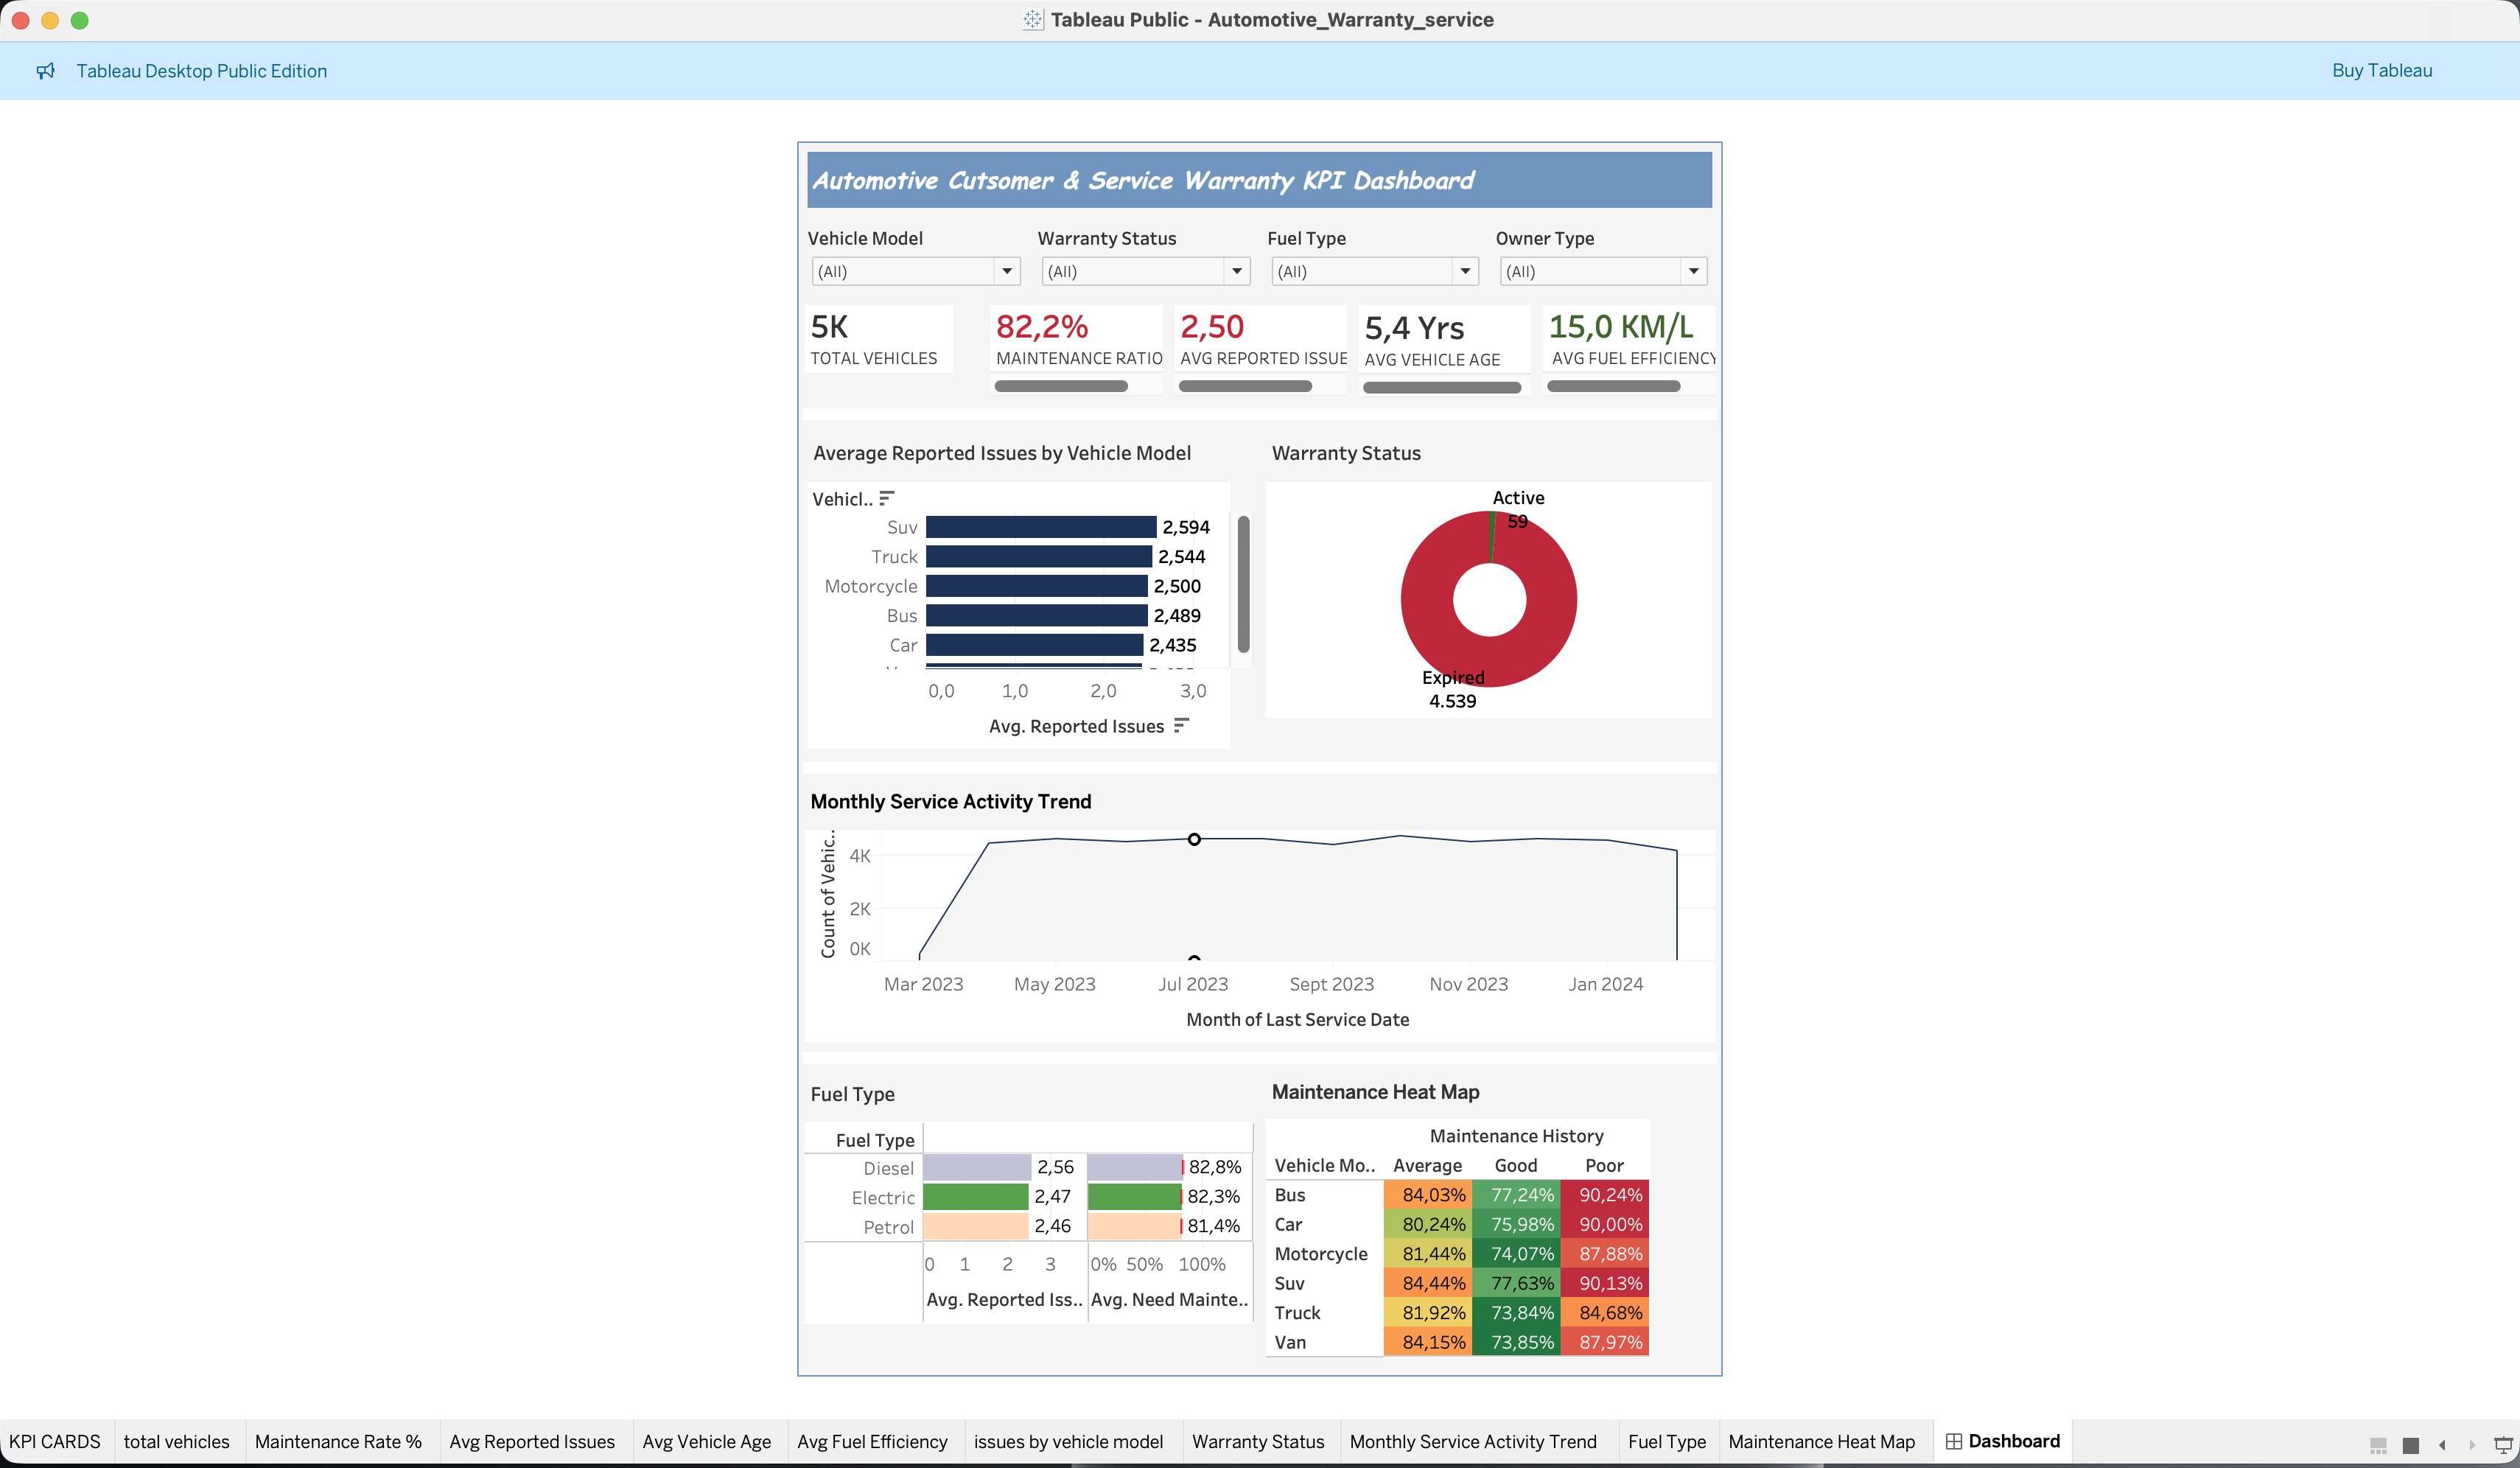

The dashboard page shown, as its layout file describes it:
{"tool":"tableau","page":{"name":"Dashboard 1","canvas":[1000,1000],"units":"permille","ordinal":0},"visuals":[{"type":"text","box":[18.5,14,963.1,58.1]},{"type":"filter","title":"issues by vehicle model","param":"[federated.1a6rch2145ltl31cx5ggi0uesg0q].[none:Vehicle_Model:nk]","box":[21.5,74.4,240,60.5]},{"type":"filter","title":"Warranty Status","param":"[federated.1a6rch2145ltl31cx5ggi0uesg0q].[none:Warranty_Status:nk]","box":[261.5,74.4,240,60.5]},{"type":"filter","title":"Fuel Type","param":"[federated.1a6rch2145ltl31cx5ggi0uesg0q].[none:Fuel_Type:nk]","box":[501.5,74.4,238.5,60.5]},{"type":"filter","title":"Maintenance Heat Map","param":"[federated.1a6rch2145ltl31cx5ggi0uesg0q].[none:Owner_Type:nk]","box":[740,74.4,238.5,60.5]},{"type":"worksheet","title":"total vehicles","mark":"Automatic","box":[18.5,137.2,193.8,82.6]},{"type":"worksheet","title":"Maintenance Rate %","mark":"Automatic","box":[212.3,137.2,192.3,82.6]},{"type":"worksheet","title":"Avg Reported Issues","mark":"Automatic","box":[404.6,137.2,192.3,82.6]},{"type":"worksheet","title":"Avg Vehicle Age","mark":"Automatic","box":[596.9,137.2,192.3,82.6]},{"type":"worksheet","title":"Avg Fuel Efficiency","mark":"Automatic","box":[789.2,137.2,192.3,82.6]},{"type":"blank","box":[18.5,219.8,963.1,16.3]},{"type":"worksheet","title":"issues by vehicle model","mark":"Automatic","rows":["Vehicle_Model"],"cols":["Reported_Issues"],"box":[21.5,238.4,478.5,258.1]},{"type":"worksheet","title":"Warranty Status","mark":"Pie","cols":["Calculation_223350445200883714","Calculation_223350445200883714"],"box":[500,238.4,478.5,258.1]},{"type":"blank","box":[18.5,498.8,963.1,16.3]},{"type":"worksheet","title":"Monthly Service Activity Trend","mark":"Area","rows":["Vehicle_Model"],"cols":["Last_Service_Date"],"box":[18.5,515.1,963.1,212.8]},{"type":"blank","box":[18.5,727.9,963.1,16.3]},{"type":"worksheet","title":"Fuel Type","mark":"Automatic","rows":["Fuel_Type"],"cols":["Reported_Issues","Need_Maintenance"],"box":[18.5,744.2,481.5,232.6]},{"type":"worksheet","title":"Maintenance Heat Map","mark":"Square","rows":["Vehicle_Model"],"cols":["Maintenance_History"],"box":[500,744.2,481.5,232.6]}]}

Visuals, with their boxes on the dashboard's canvas, which has no fixed pixel size, in thousandths of its width and height (x1, y1, x2, y2). These are canvas units, not pixel positions in the 2520x1468 screenshot, which may show the page scaled, cropped or inside an application window:
text: locate(18, 14, 982, 72)
"issues by vehicle model" filter: locate(22, 74, 262, 135)
"Warranty Status" filter: locate(262, 74, 502, 135)
"Fuel Type" filter: locate(502, 74, 740, 135)
"Maintenance Heat Map" filter: locate(740, 74, 978, 135)
"total vehicles" worksheet: locate(18, 137, 212, 220)
"Maintenance Rate %" worksheet: locate(212, 137, 405, 220)
"Avg Reported Issues" worksheet: locate(405, 137, 597, 220)
"Avg Vehicle Age" worksheet: locate(597, 137, 789, 220)
"Avg Fuel Efficiency" worksheet: locate(789, 137, 982, 220)
blank: locate(18, 220, 982, 236)
"issues by vehicle model" worksheet: locate(22, 238, 500, 496)
"Warranty Status" worksheet (Pie marks): locate(500, 238, 978, 496)
blank: locate(18, 499, 982, 515)
"Monthly Service Activity Trend" worksheet (Area marks): locate(18, 515, 982, 728)
blank: locate(18, 728, 982, 744)
"Fuel Type" worksheet: locate(18, 744, 500, 977)
"Maintenance Heat Map" worksheet (Square marks): locate(500, 744, 982, 977)
